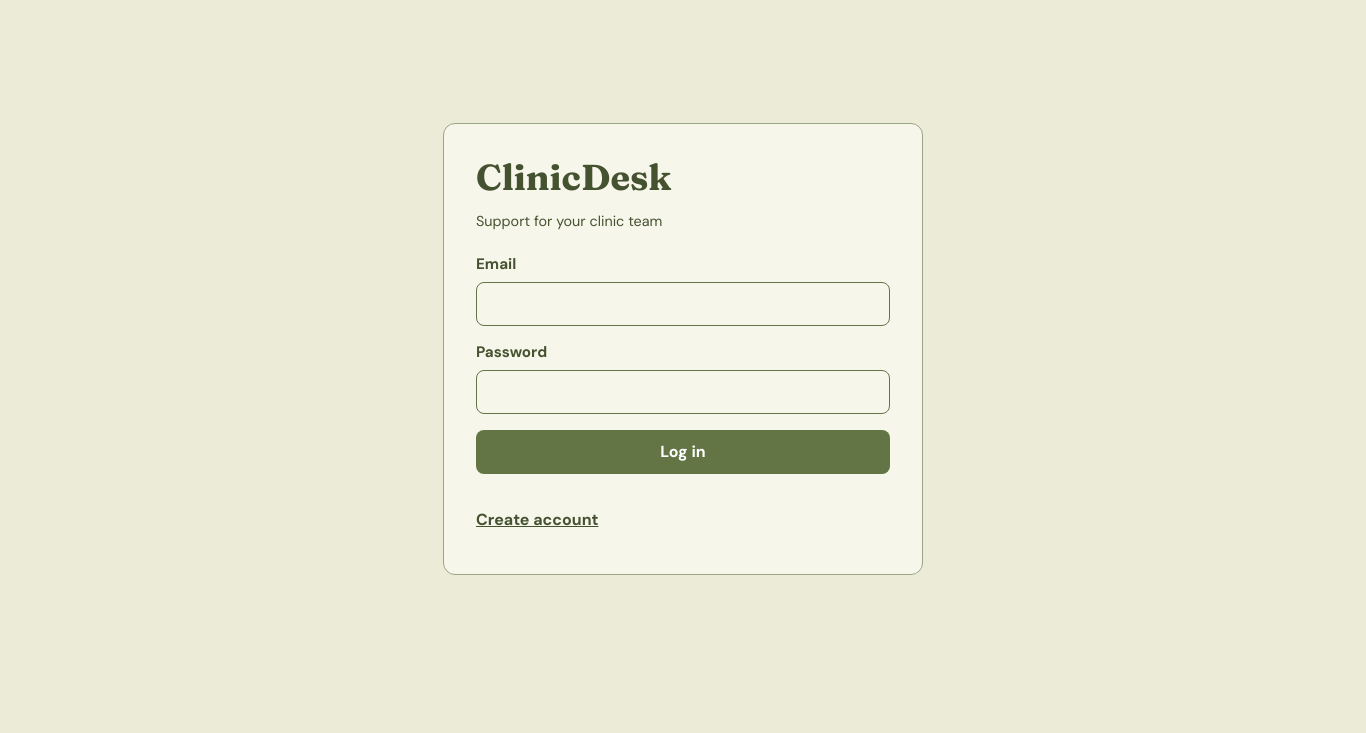
Test case: LoginPage › stores the auth state and redirects to /tickets on success
Type " mara@example.com " into the field labelled "Email" at (683, 304), box [476,282,890,326]
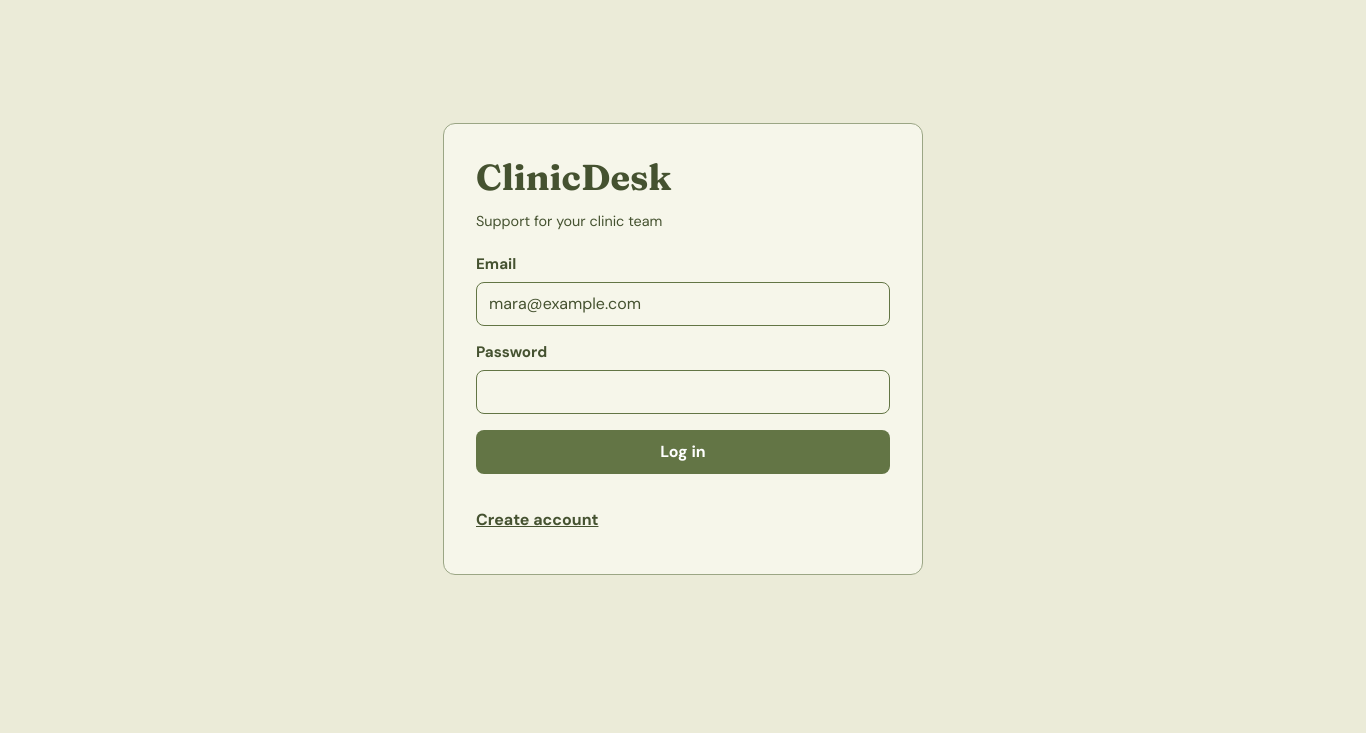
Type "a-long-password" into the password field labelled "Password" at (683, 392), box [476,370,890,414]
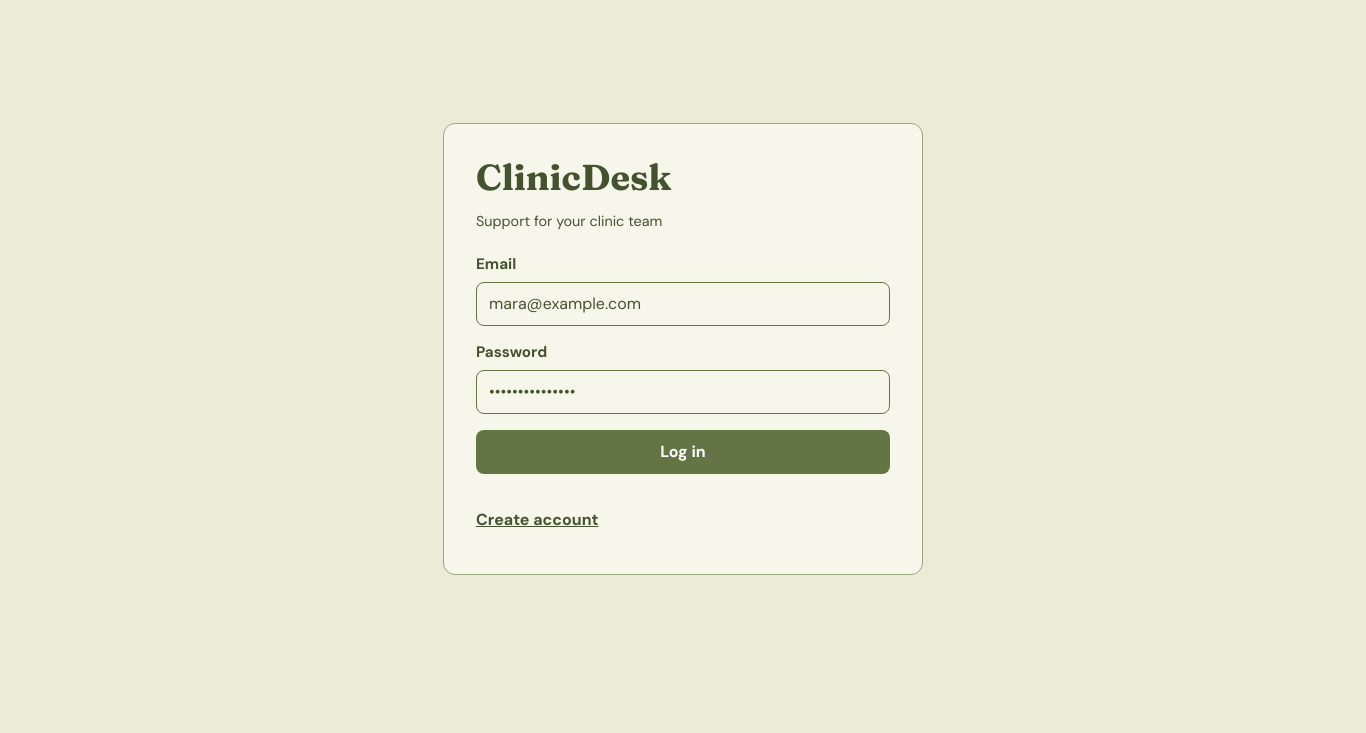
Click the button "Log in" at (683, 452), box [476,430,890,474]
(page scrolled)
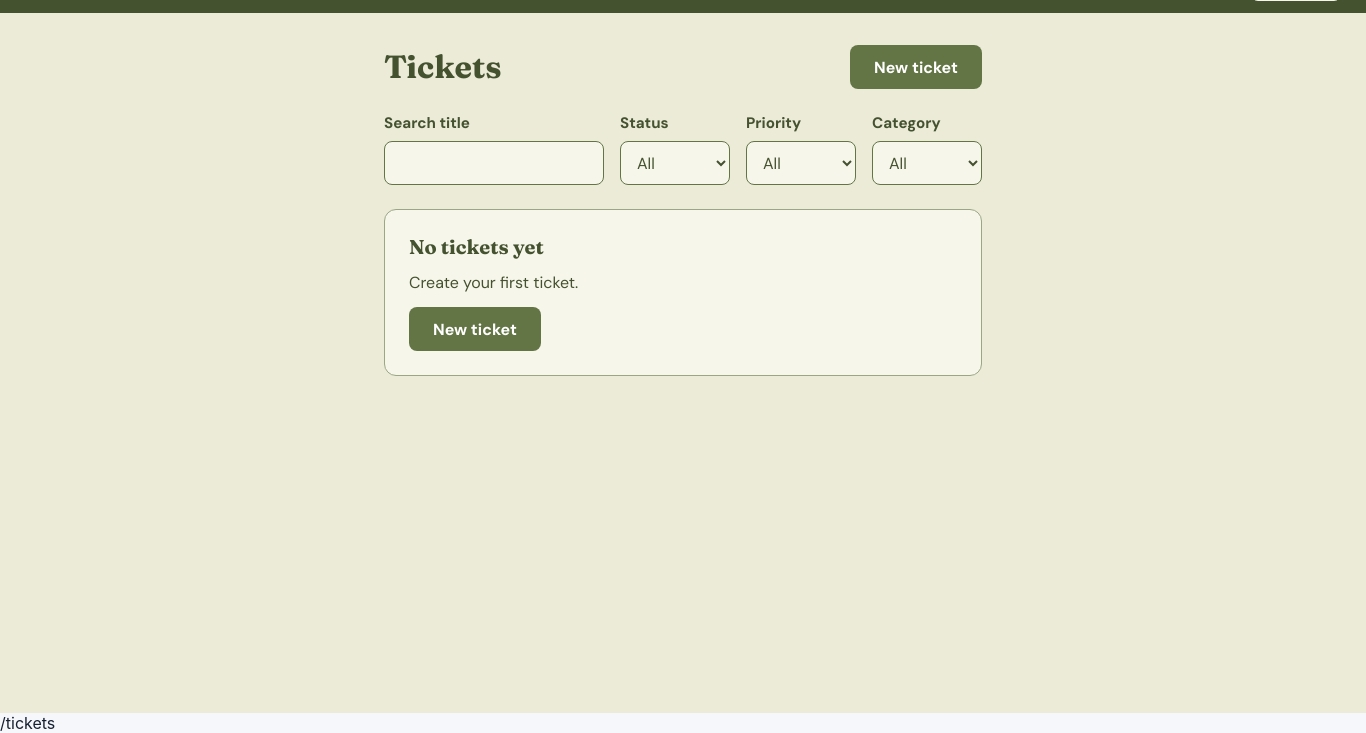
Expected: the heading "Tickets" is shown, [384,51,502,83]
Expected: the text with test id "location" reads "/tickets", [0,713,55,732]
